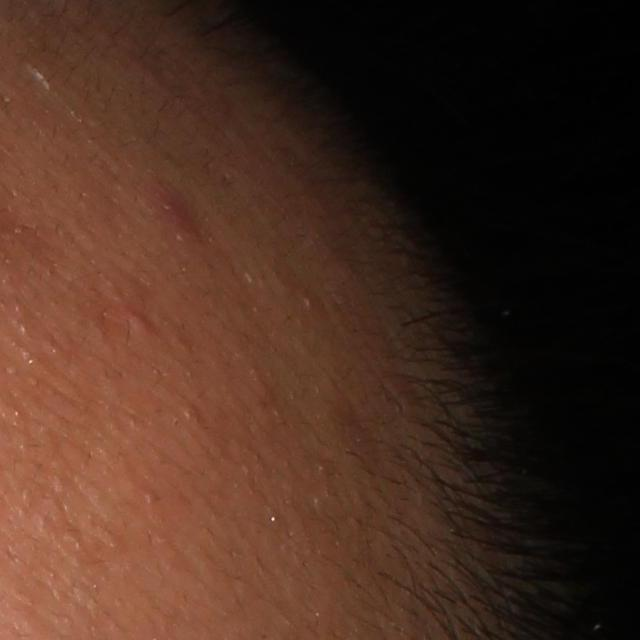papule: (143, 185, 199, 246), (114, 298, 159, 346)
